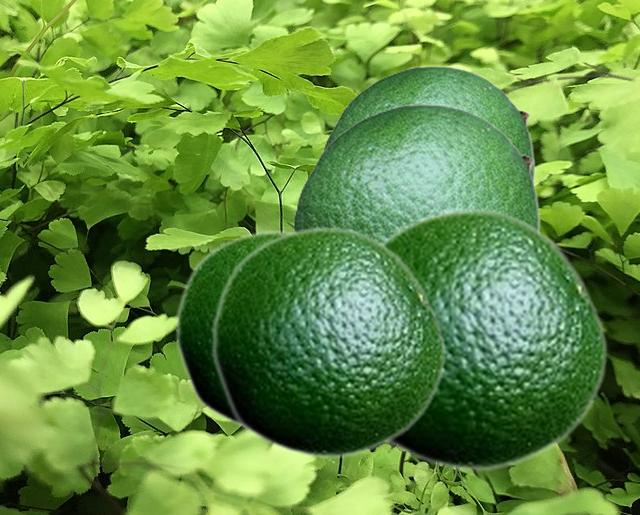calamansi: (380, 207, 608, 472), (210, 225, 446, 459), (293, 103, 539, 239), (320, 65, 534, 179), (174, 229, 290, 429)
